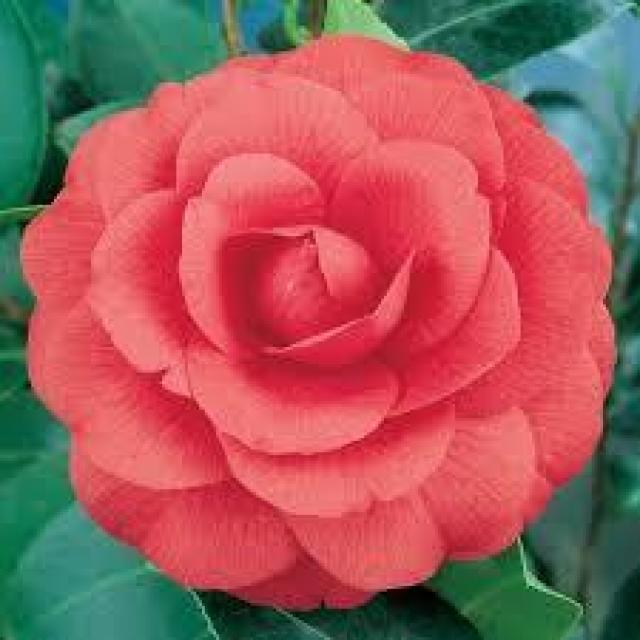organic waste: (24, 54, 613, 572)
